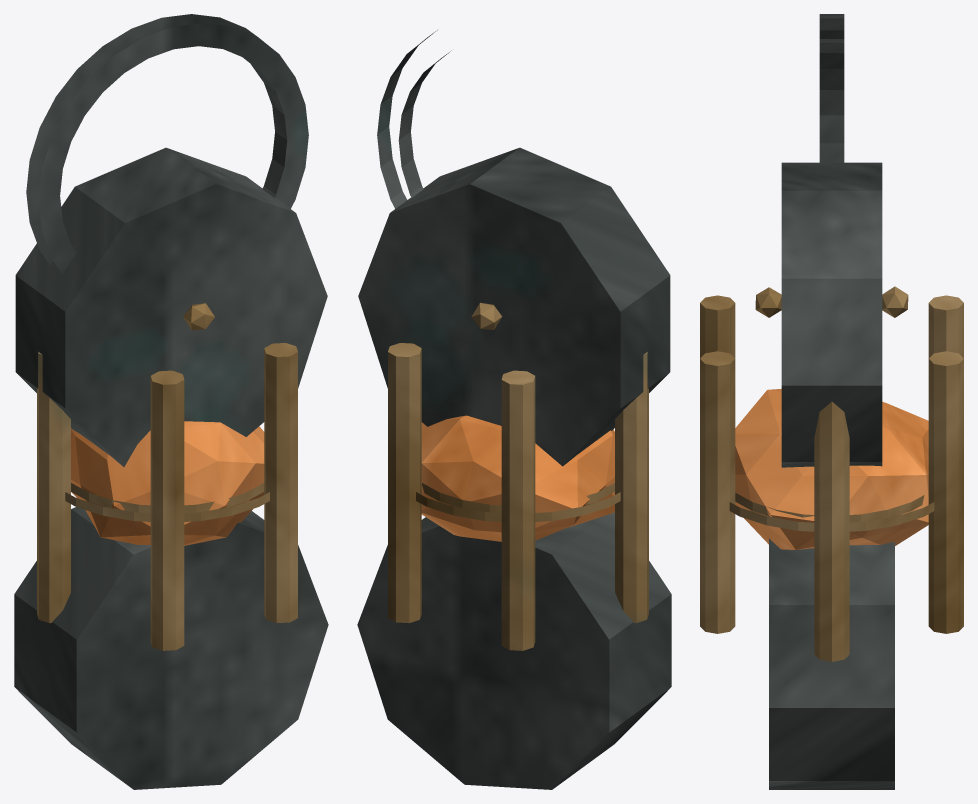
Rendered from 0911_lantern_11.glb.
The picture shows the model from 3 angles, left to right: view 1: azimuth 30°, elevation 25°; view 2: azimuth 150°, elevation 25°; view 3: azimuth 270°, elevation 25°; orthographic projection.
Parts seen in each view (by area): view 1: iron, brass, amber; view 2: iron, brass, amber; view 3: iron, brass, amber.
Part boxes in pixels (box(x1,y1,x2,y2)): iron: box(14, 14, 328, 789); brass: box(37, 303, 297, 650); amber: box(71, 421, 264, 545); iron: box(357, 30, 671, 789); brass: box(388, 302, 648, 650); amber: box(421, 415, 614, 541); iron: box(769, 14, 894, 789); brass: box(700, 286, 963, 661); amber: box(735, 388, 928, 549).
Size of the model in its own units: 0.5 by 1.32 by 0.4197.
3 materials, 3 textured.
